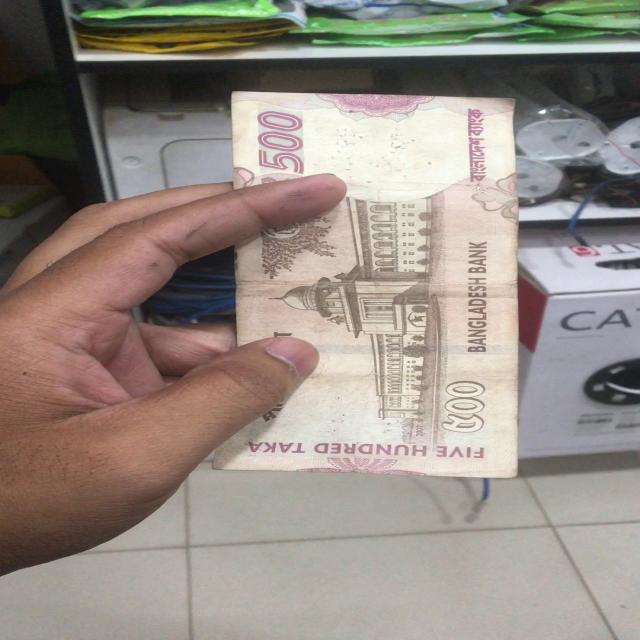Taka: (232, 89, 518, 473)
